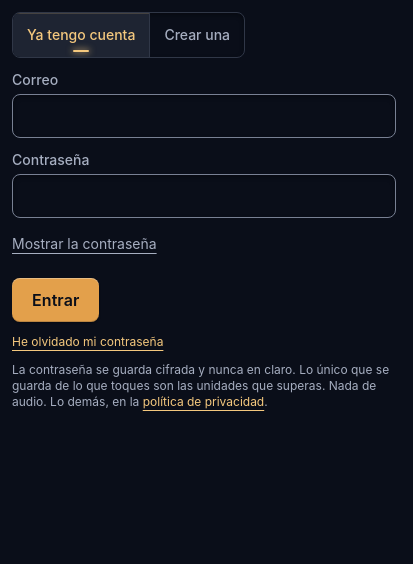
Scenario: cuál de los dos viene puesto › el interruptor sigue estando, porque uno no se acuerda
Click the button "Crear una" at [197, 35], box [149,13,244,57]
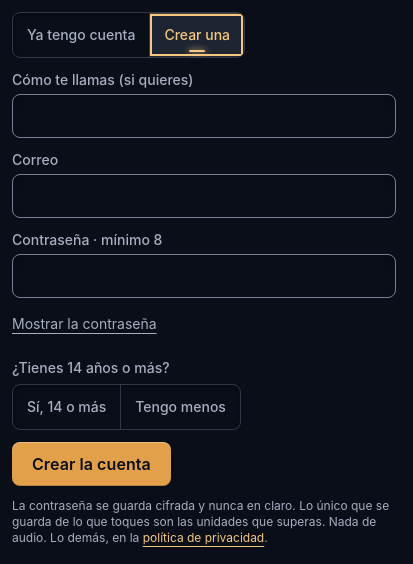
Expected: the field labelled "Cómo te llamas (si quieres)" is shown, [12,94,396,138]
Result: the button "Crear la cuenta" is shown at [12,442,171,486]
